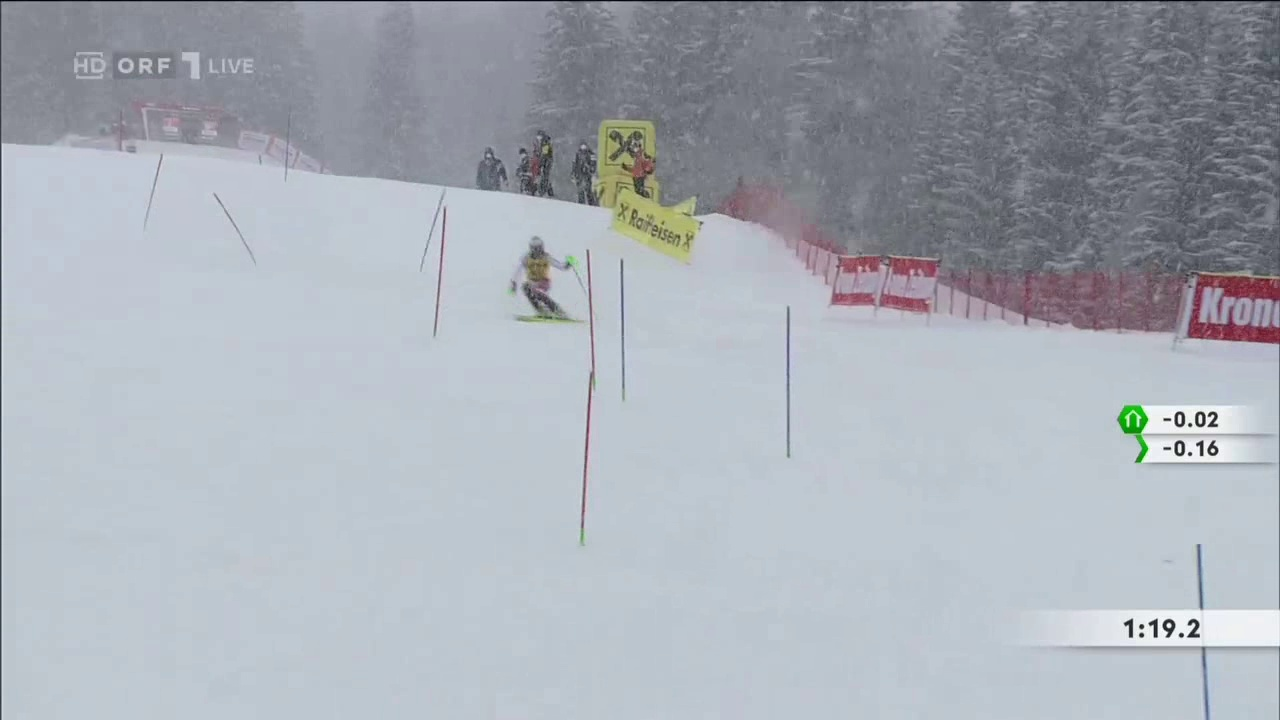kronenzeitung: (1191, 282, 1279, 343)
raiffeisen: (616, 193, 698, 245), (602, 126, 643, 170)
